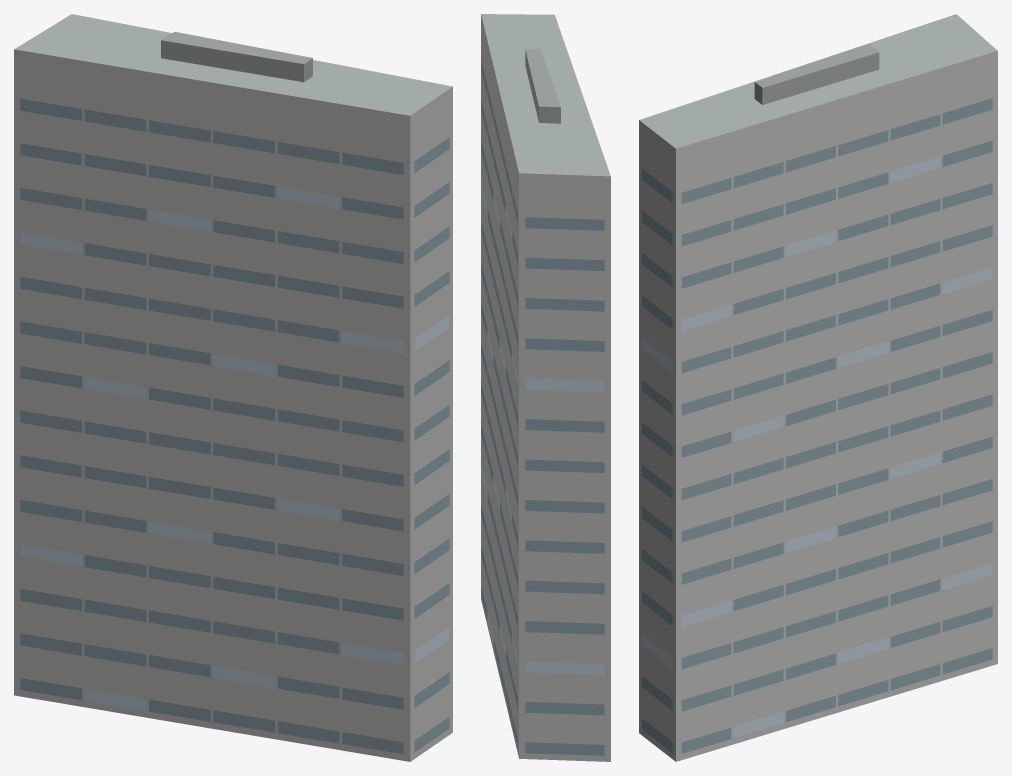
The model's file is fallback-jamsil-ricenz-240.glb.
3 views of the same model, side by side, from view 1: azimuth 30°, elevation 25°; view 2: azimuth 150°, elevation 25°; view 3: azimuth 270°, elevation 25° (orthographic). The views are drawn at different scales.
Parts seen in each view (by area): view 1: fallback-jamsil-ricenz-240; view 2: fallback-jamsil-ricenz-240; view 3: fallback-jamsil-ricenz-240.
Boxes of the visible parts, left/top/right/bottom form: fallback-jamsil-ricenz-240: left=14, top=14, right=452, bottom=761; fallback-jamsil-ricenz-240: left=481, top=14, right=610, bottom=761; fallback-jamsil-ricenz-240: left=639, top=14, right=997, bottom=761.
Size of the model in its own units: 40.34 by 88 by 45.38.
